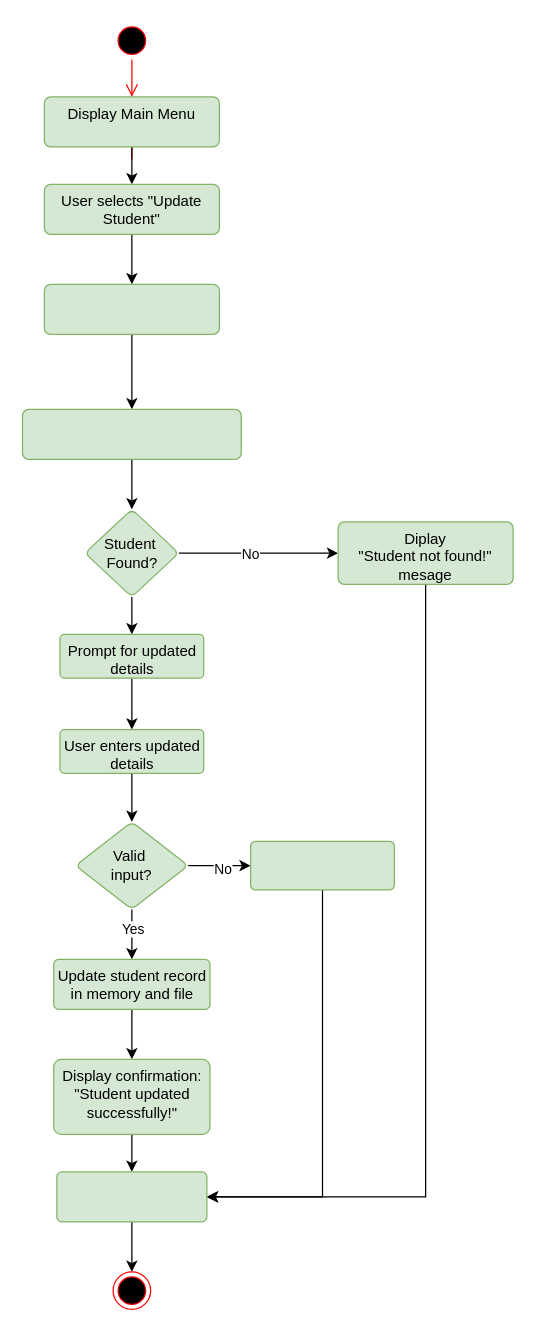
Image size: 535x1331. Some labels were removed from this diagram. The centre of each missing label's shape, as x and y in pixels:
Prompt: "Enter student name": point (131, 308)
Return Main menu: point (131, 1196)
Search for student record (via ResultService/FileHandler): point (131, 433)
Throws invalid input exception: point (321, 865)
